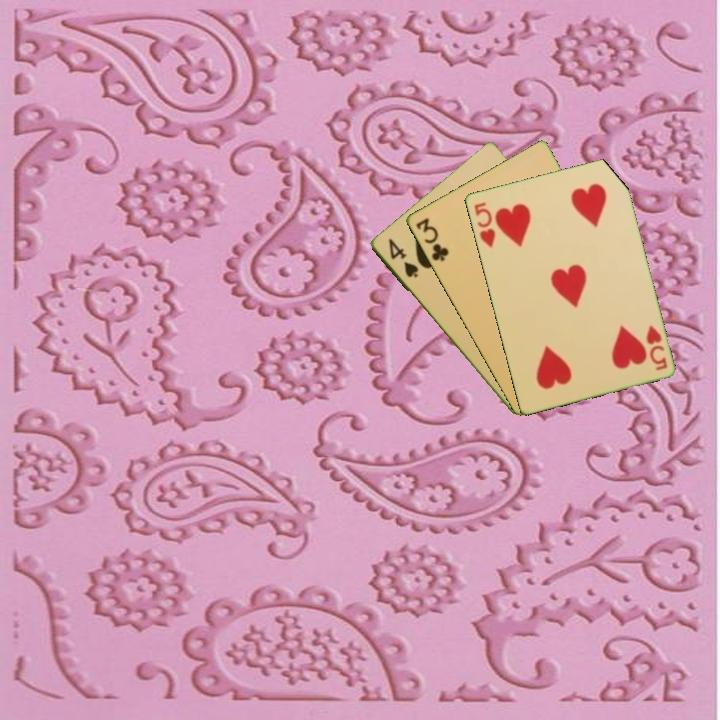3c: (412, 214, 451, 264)
4s: (384, 235, 421, 281)
5h: (470, 198, 498, 250), (642, 321, 670, 373)
